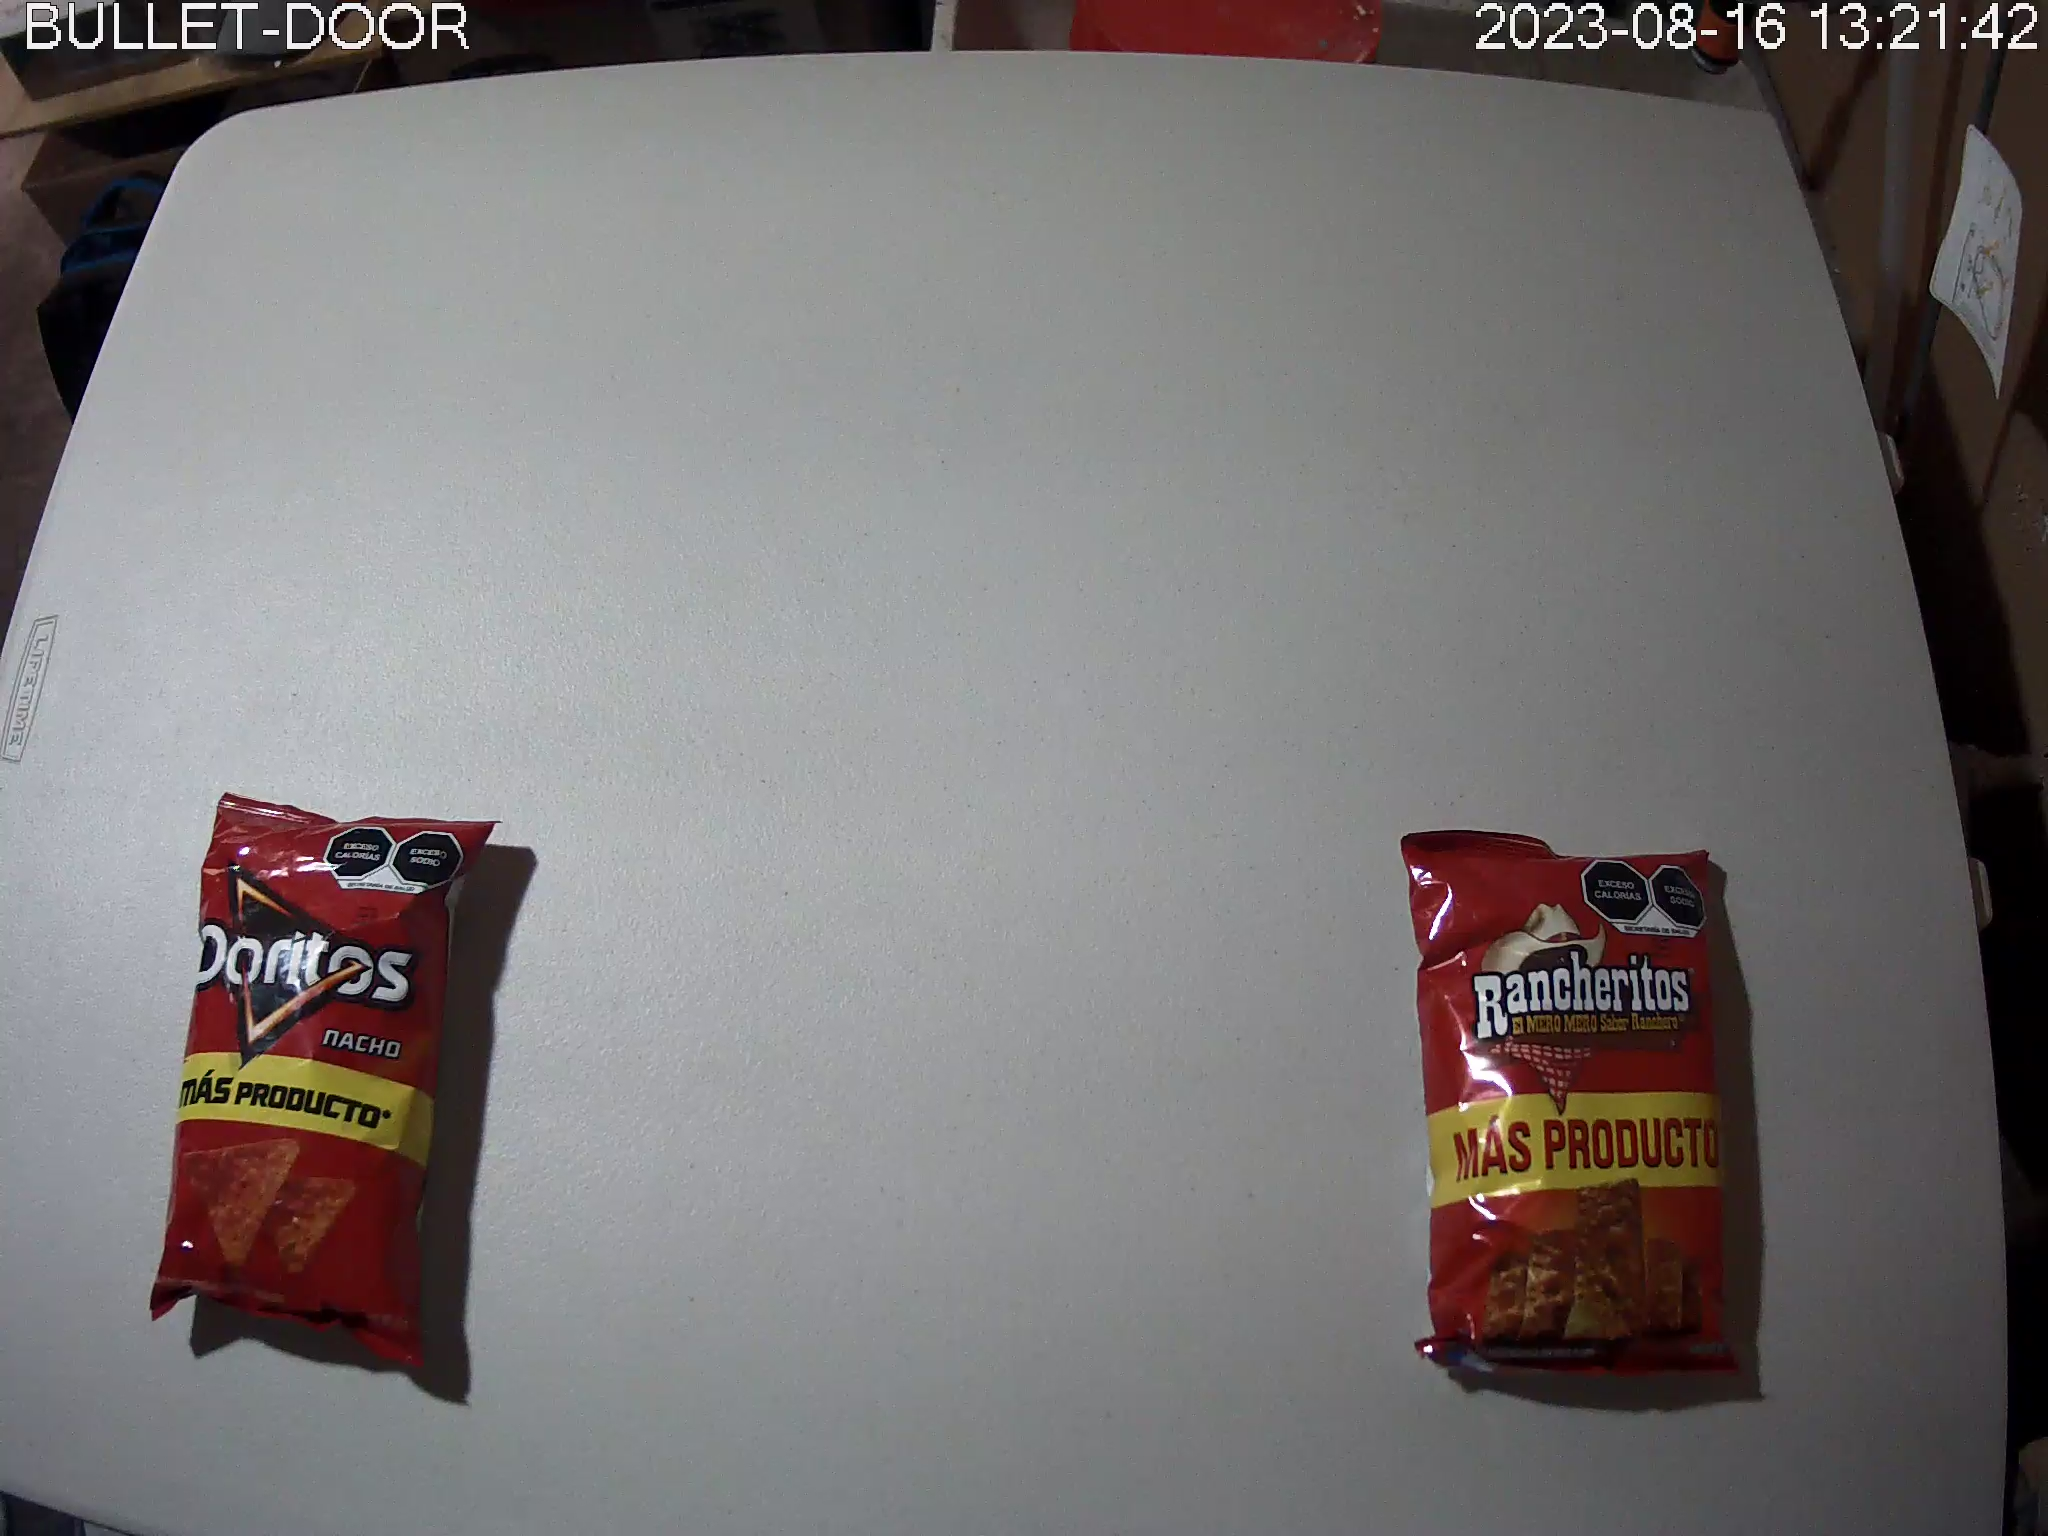DoritosN_61_F: (148, 791, 506, 1375)
Rancheritos_58_F: (1397, 831, 1753, 1384)
